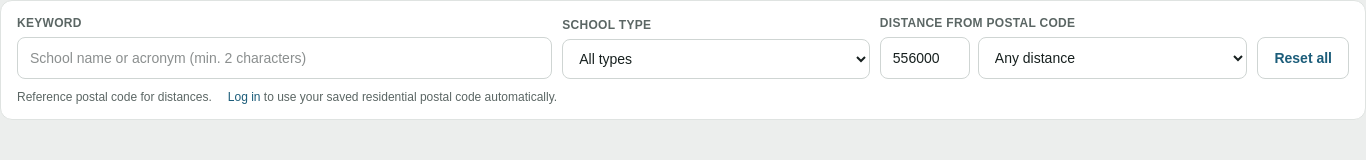
Test: SchoolFilterBar (REQ-1.1 to REQ-1.5, REQ-1.15) › reference postal code (REQ-1.5, BR-4) › warns when the server cannot place a complete code
This screenshot has width=1366, height=160.
Replace the text in the field named "Postal code" with "990000" at (925, 58), box [880,37,970,79]
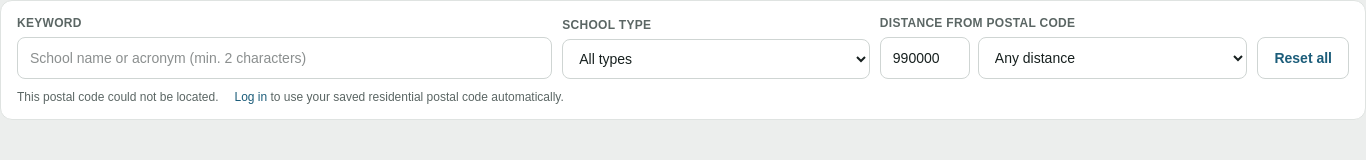
expect the text "This postal code could not be located." is shown: met, box [17,89,218,105]
